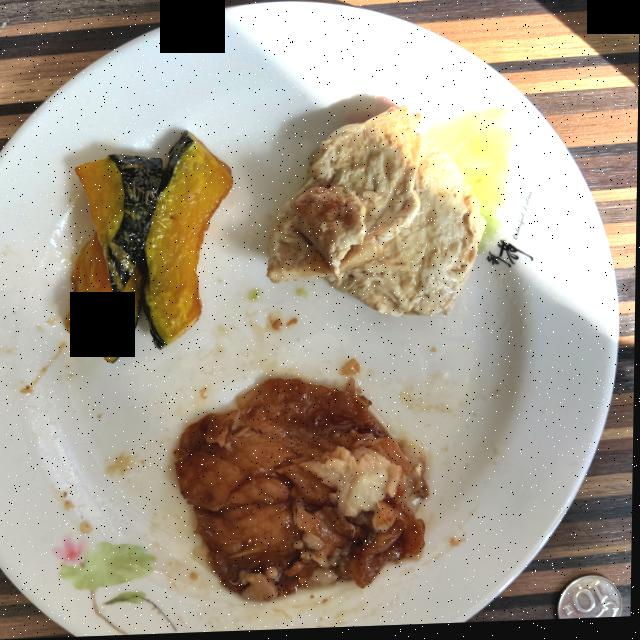Kabayaki sea bream fillet: (175, 380, 430, 603)
coin: (560, 580, 624, 623)
pumpkin: (66, 133, 234, 363)
